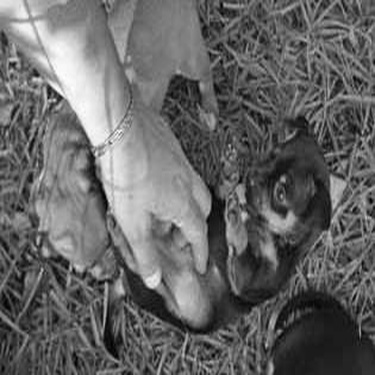dog: (3, 76, 353, 323)
